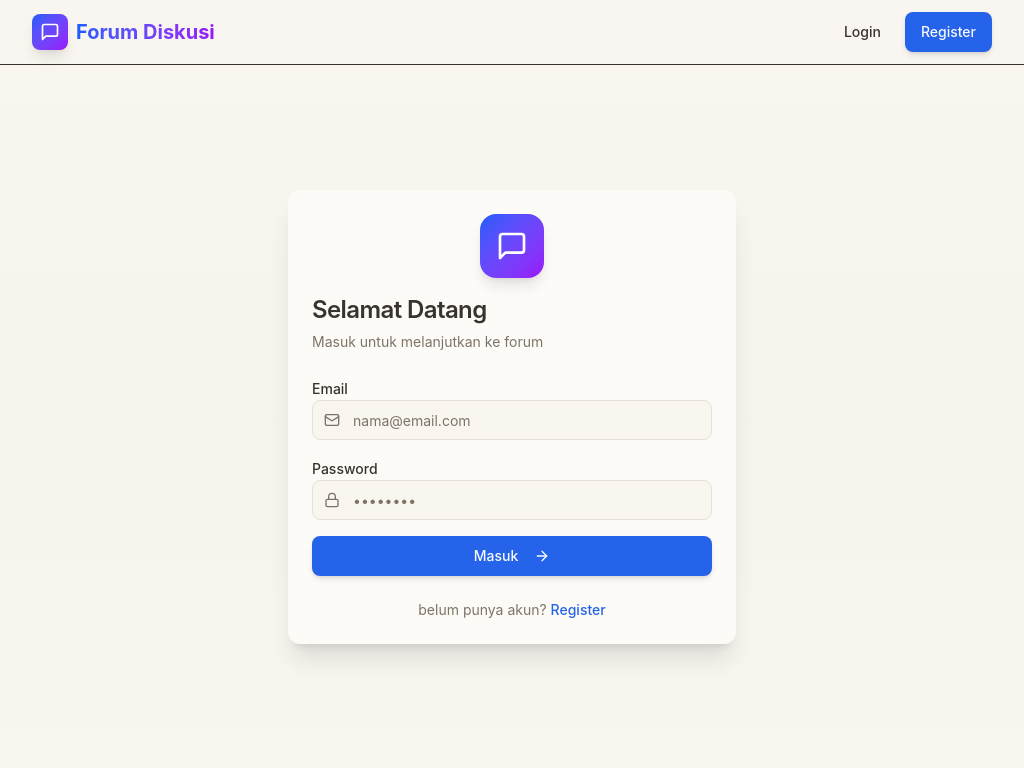
Test: Login Flow E2E › should show error when login fails
Type "wrong@email.com" into the field labelled "Email" at (512, 420), box [312,400,712,440]
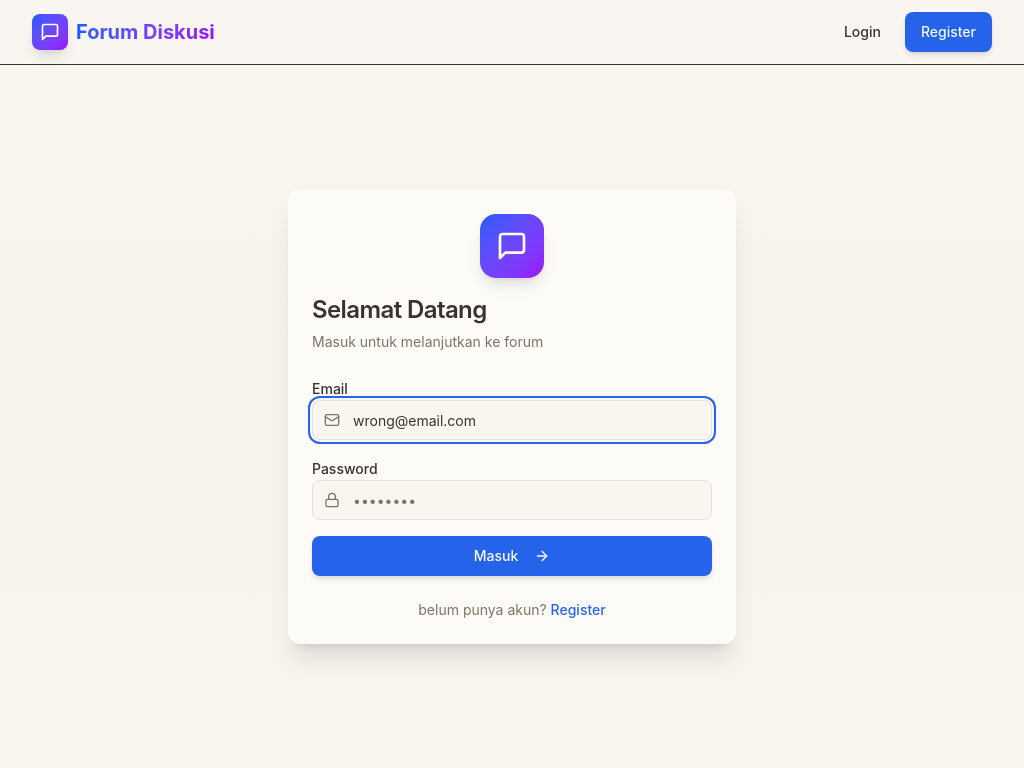
Type "wrongpassword" into the password field labelled "Password" at (512, 500), box [312,480,712,520]
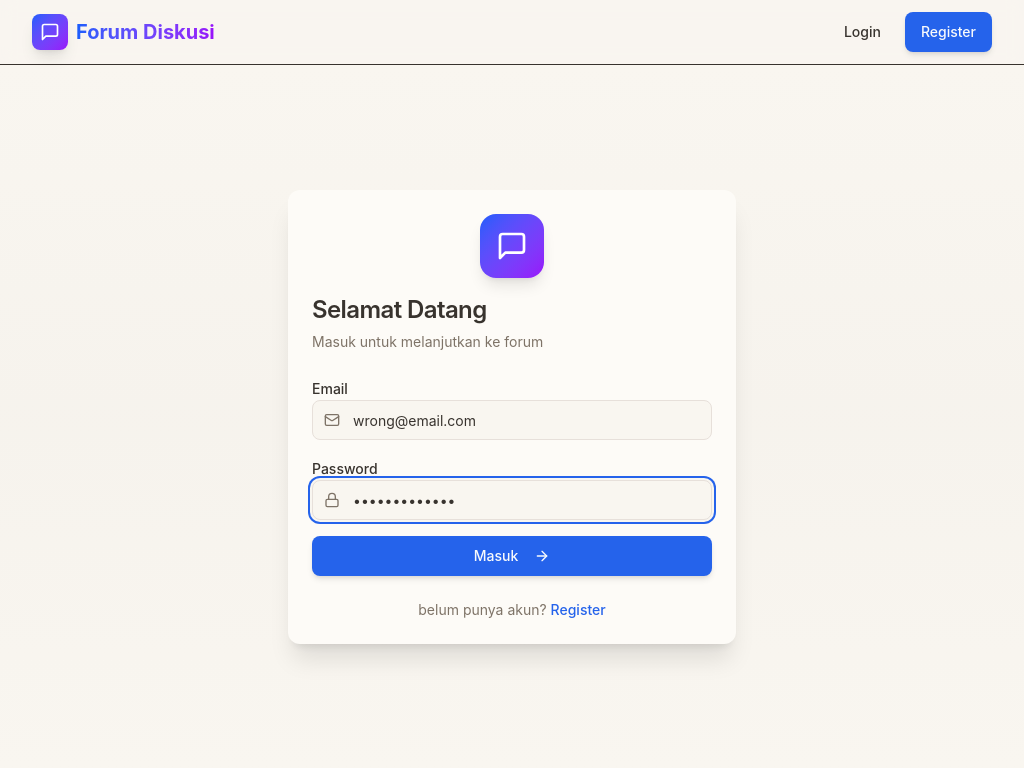
Click the button "Masuk" at (512, 556), box [312,536,712,576]
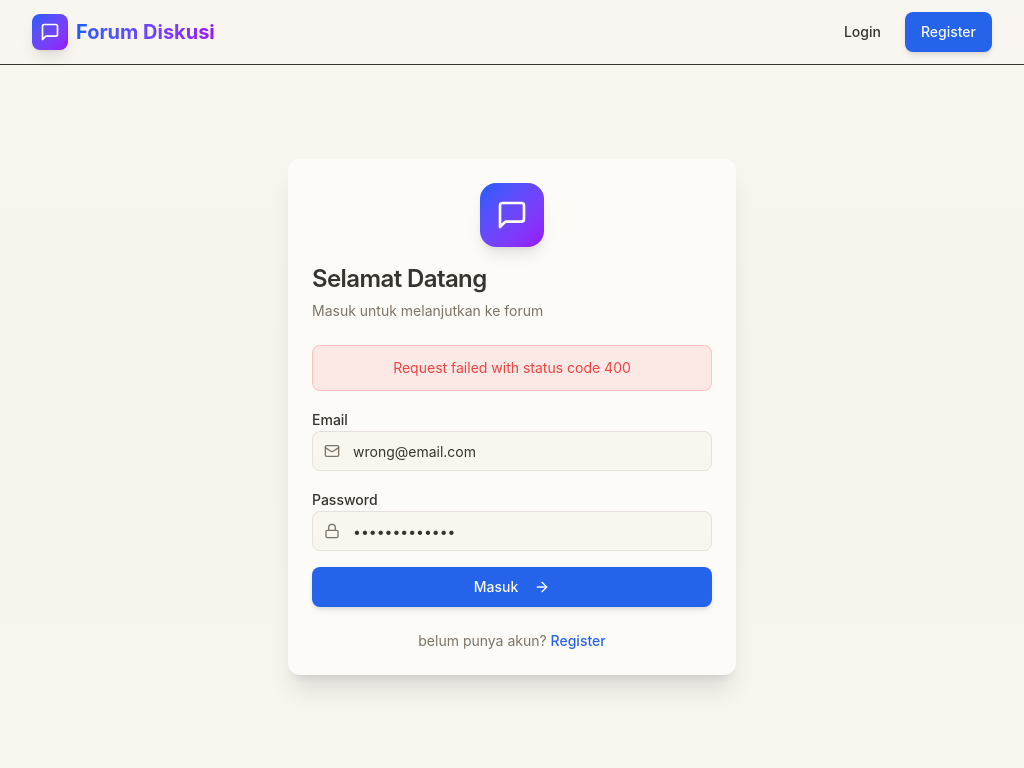
Expected: the text "Request failed with status code 400" is shown, [312,345,712,391]
